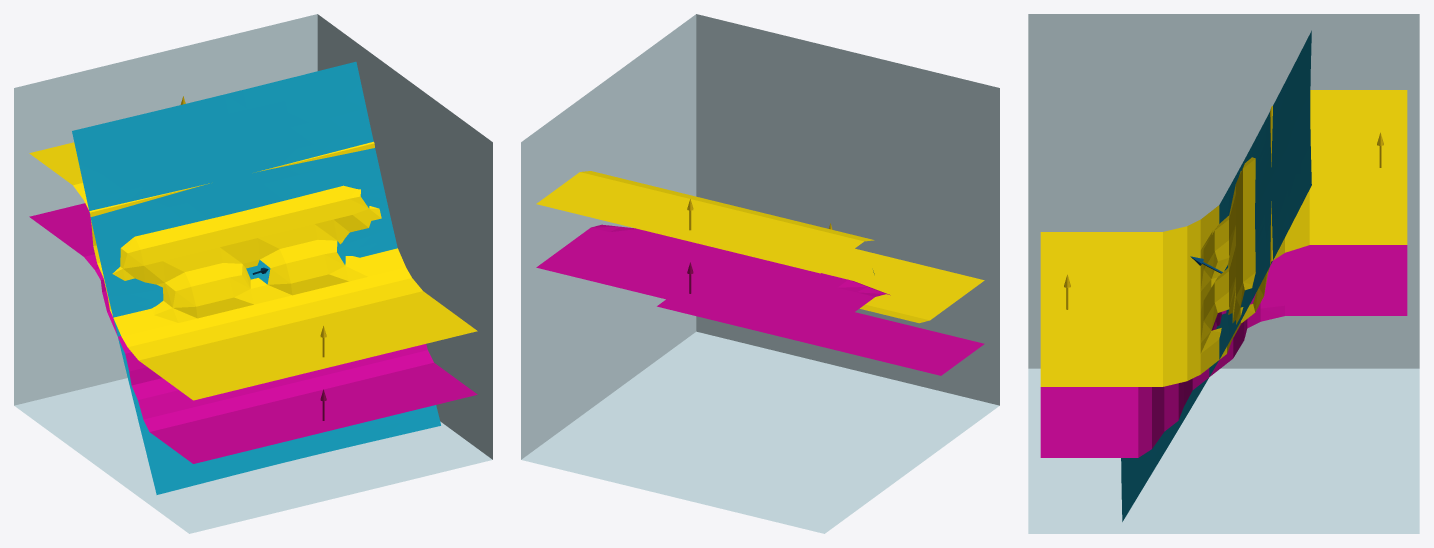
File: gempy_test.gltf
The picture shows the model from 3 angles, left to right: view 1: azimuth 30°, elevation 25°; view 2: azimuth 150°, elevation 25°; view 3: azimuth 270°, elevation 25°; orthographic projection. The views are drawn at different scales.
Parts seen in each view (by area): view 1: Renderer Node; view 2: Renderer Node; view 3: Renderer Node.
Boxes of the visible parts, x1,y1,x2,y2 form: Renderer Node: [14, 14, 492, 533]; Renderer Node: [521, 14, 999, 533]; Renderer Node: [1028, 14, 1419, 533].
Bounding box in the file's own units: 1000 × 1000 × 1000.
Materials: 5 (1 with a texture image).
